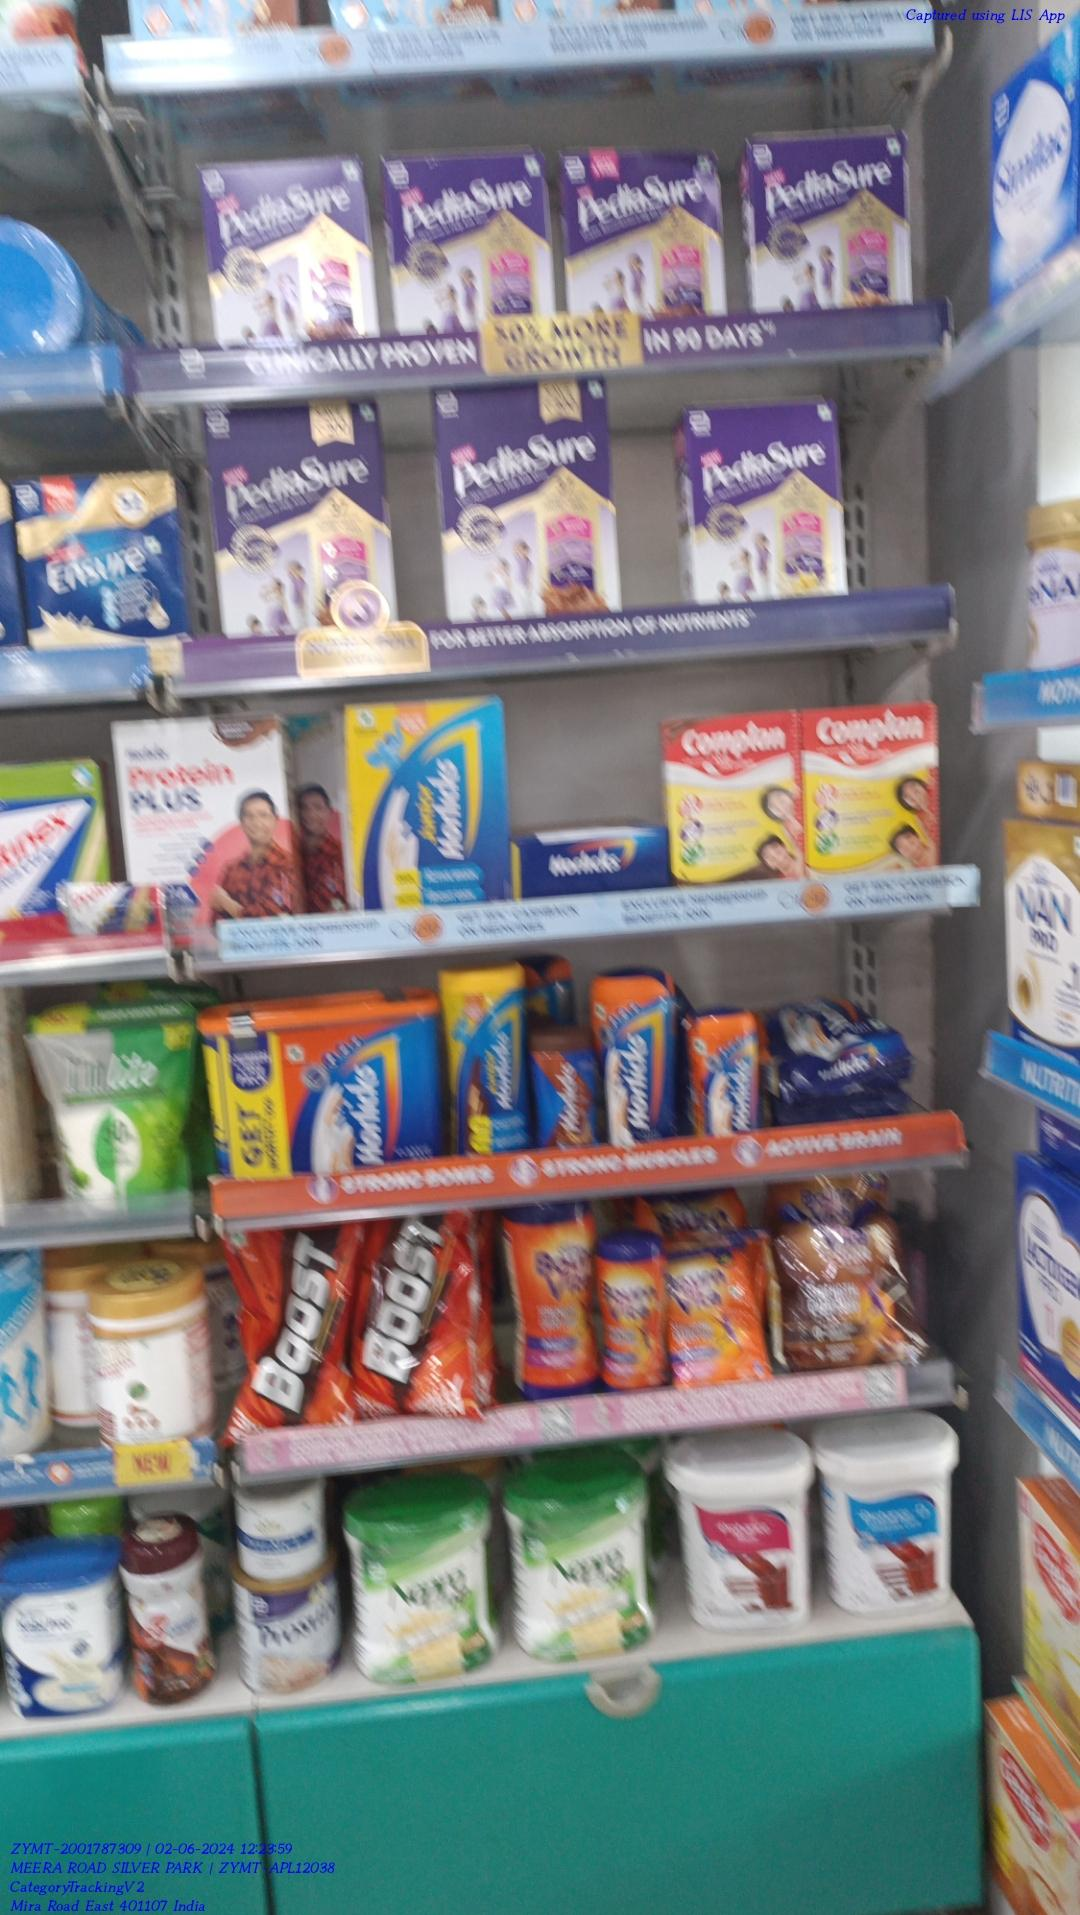BOURN_VITA_FIVE_STAR_MAGIC_500_G_POUCH: (780, 1213, 910, 1378)
HORLICKS_JUNIOR_VANILLA_500_GM_JAR: (450, 961, 531, 1165)
HORLICK_CLASSIC_MALT_200_G_JAR: (692, 1007, 763, 1138)
HORLICK_CLASSIC_MALT_500_G_JAR: (596, 964, 680, 1152)
HORLICK_MALT_1_KG_CONTAINER: (216, 1002, 443, 1186)
PEDIASURE_CHOCOLATE_500_G_PACK: (443, 371, 621, 627), (208, 405, 396, 638), (197, 159, 375, 347), (559, 143, 722, 325)
PEDIASURE_VANILLA_500_G_PACK: (676, 399, 845, 601), (749, 141, 910, 310)
